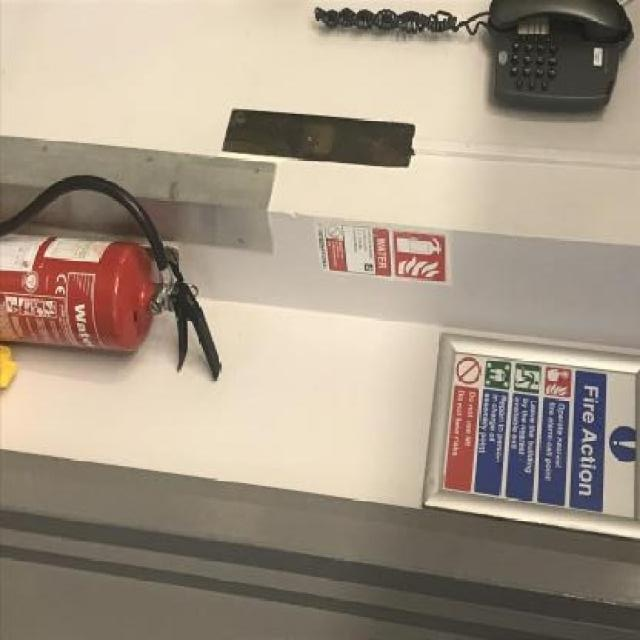fire extinguisher: (0, 176, 223, 382)
